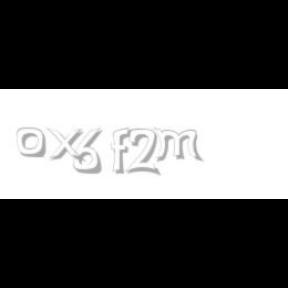2: (125, 128, 159, 176)
6: (74, 128, 102, 176)
f: (111, 128, 135, 174)
m: (152, 128, 204, 162)
o: (16, 128, 46, 158)
x: (47, 128, 89, 162)
